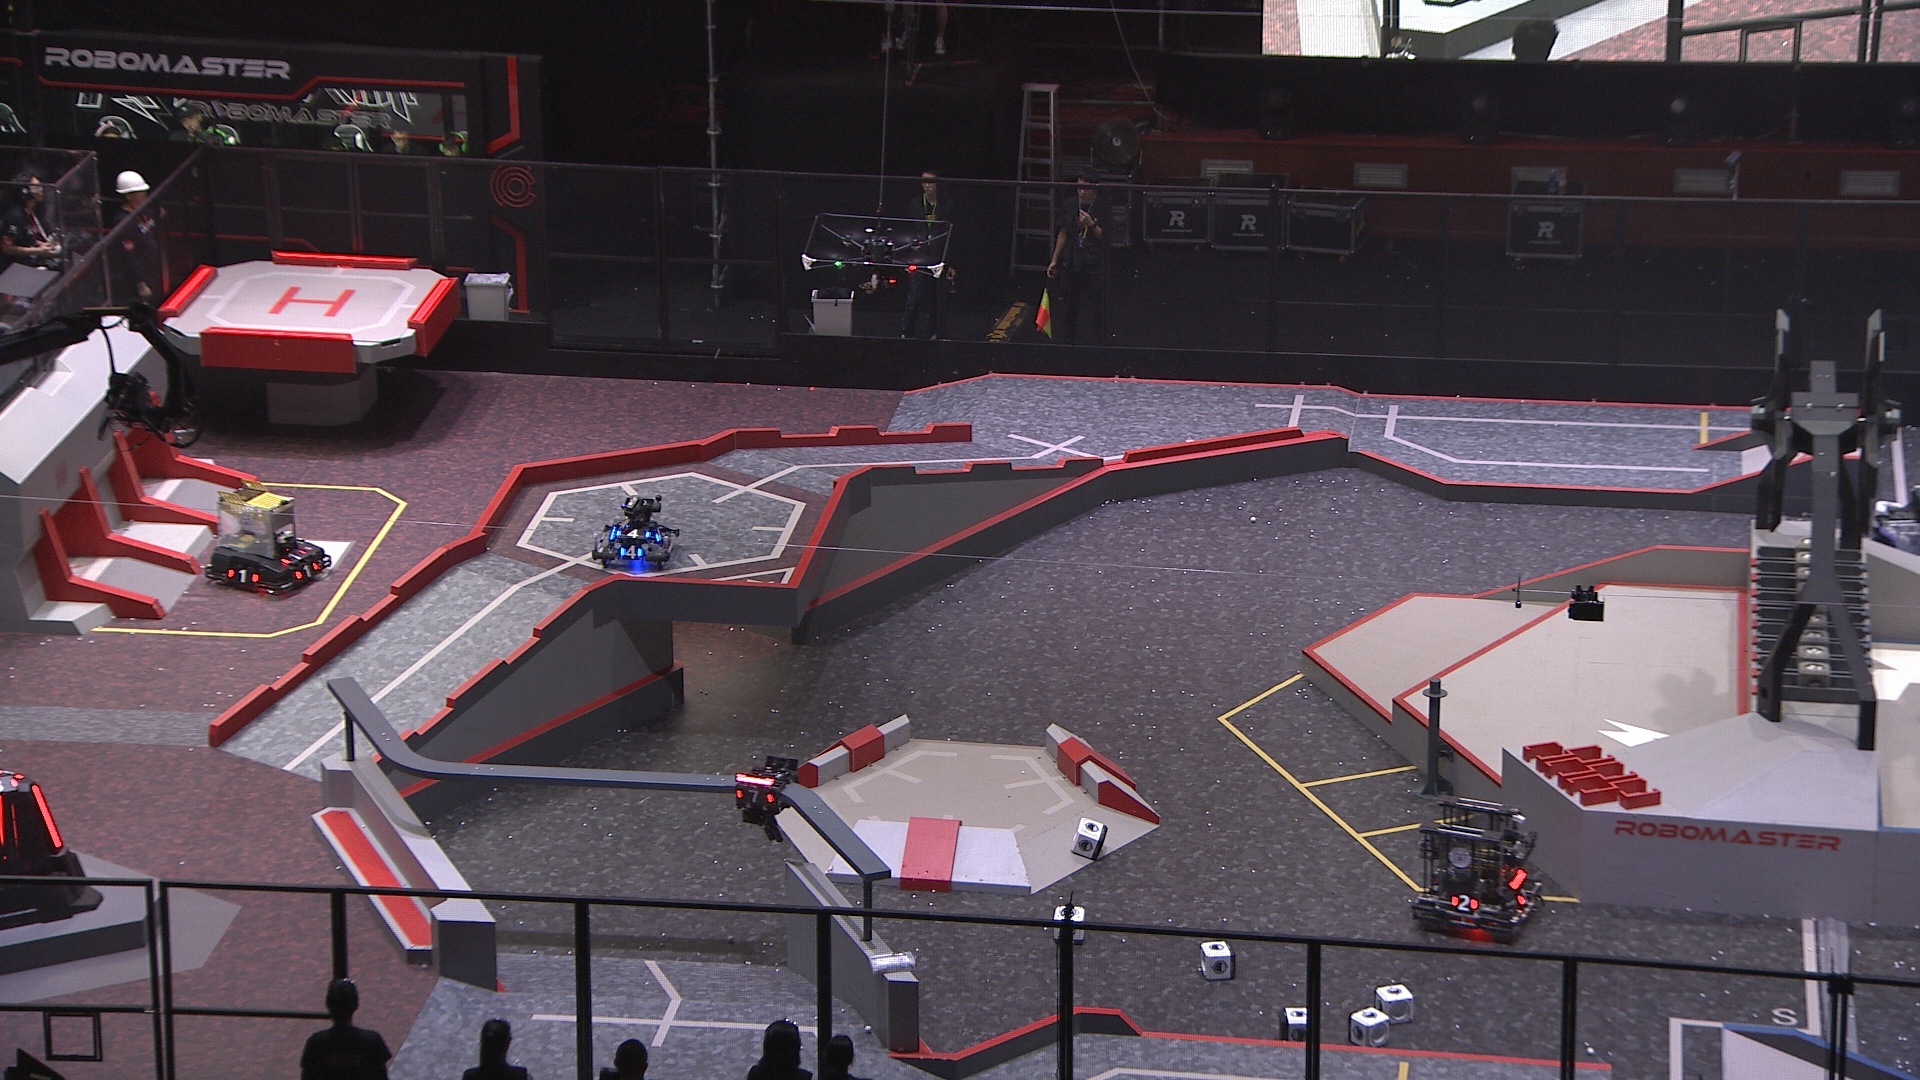armor: (26, 779, 65, 851), (735, 785, 775, 808), (1447, 891, 1481, 915), (224, 567, 262, 588), (290, 556, 320, 582), (280, 545, 309, 567), (615, 526, 651, 541), (1513, 884, 1534, 909), (618, 543, 645, 562), (651, 524, 666, 542)
car: (1406, 793, 1544, 943), (200, 477, 335, 597), (1836, 483, 1920, 574), (588, 493, 680, 571)
watcher: (731, 752, 800, 843)
